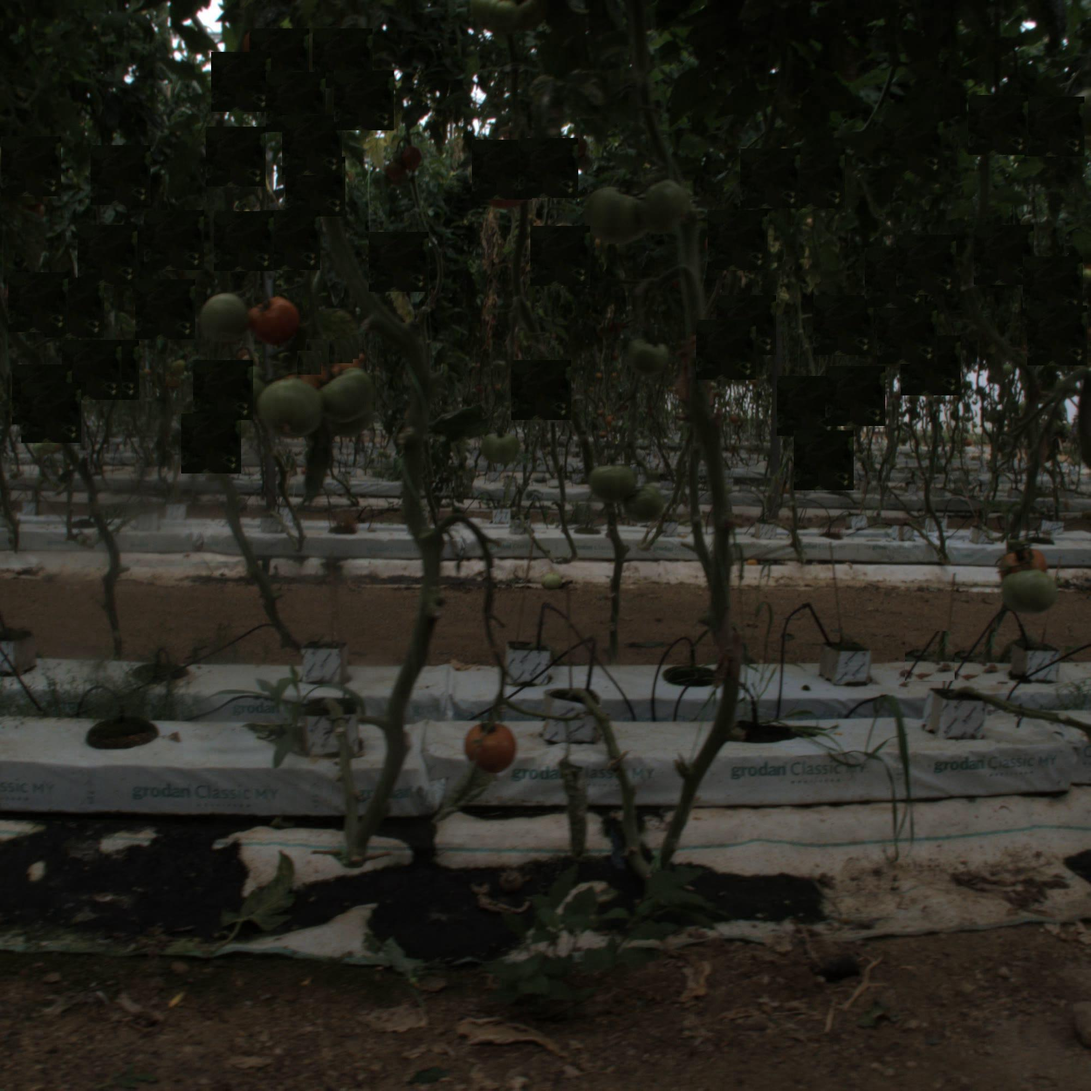['unripe', 'semi-ripe', 'fully-ripe']: (256, 374, 325, 442), (589, 185, 644, 240), (636, 182, 690, 237), (999, 563, 1053, 618), (323, 369, 377, 424), (201, 293, 251, 344), (592, 460, 632, 499), (626, 338, 665, 377), (480, 427, 519, 466), (624, 486, 663, 525)
